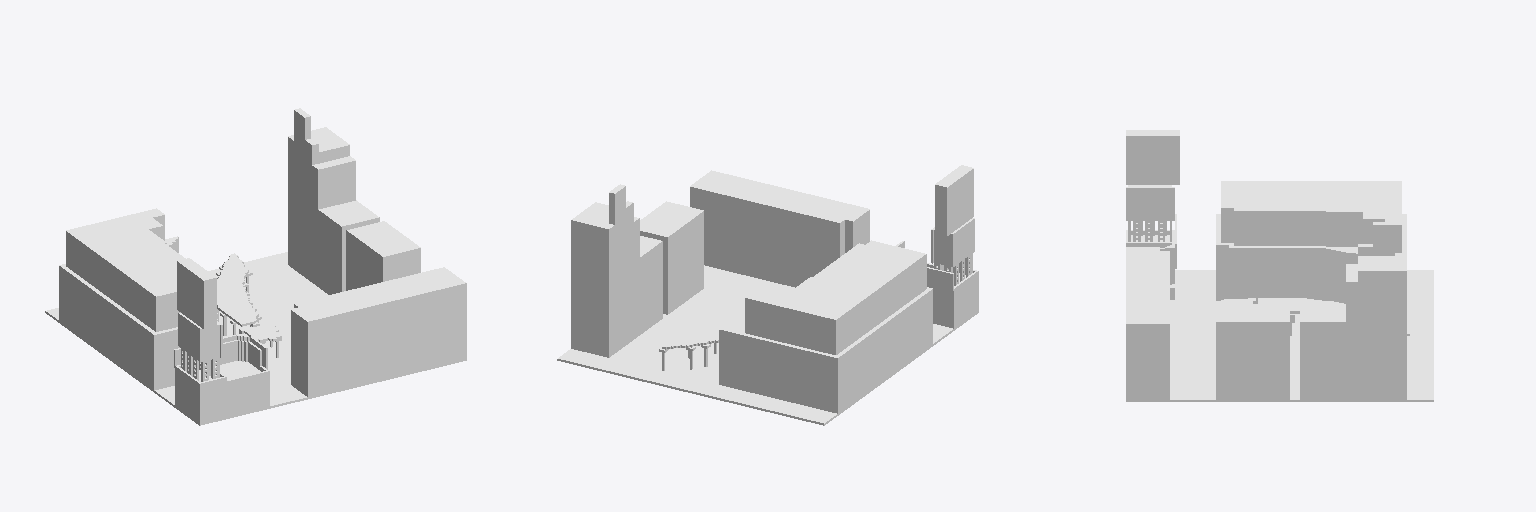
The model's file is YoungeandDundas.obj.
The picture shows the model from 3 angles: view 1: azimuth 30°, elevation 25°; view 2: azimuth 150°, elevation 25°; view 3: azimuth 270°, elevation 25°; orthographic projection.
Bounding box in the file's own units: 126 × 73 × 126.